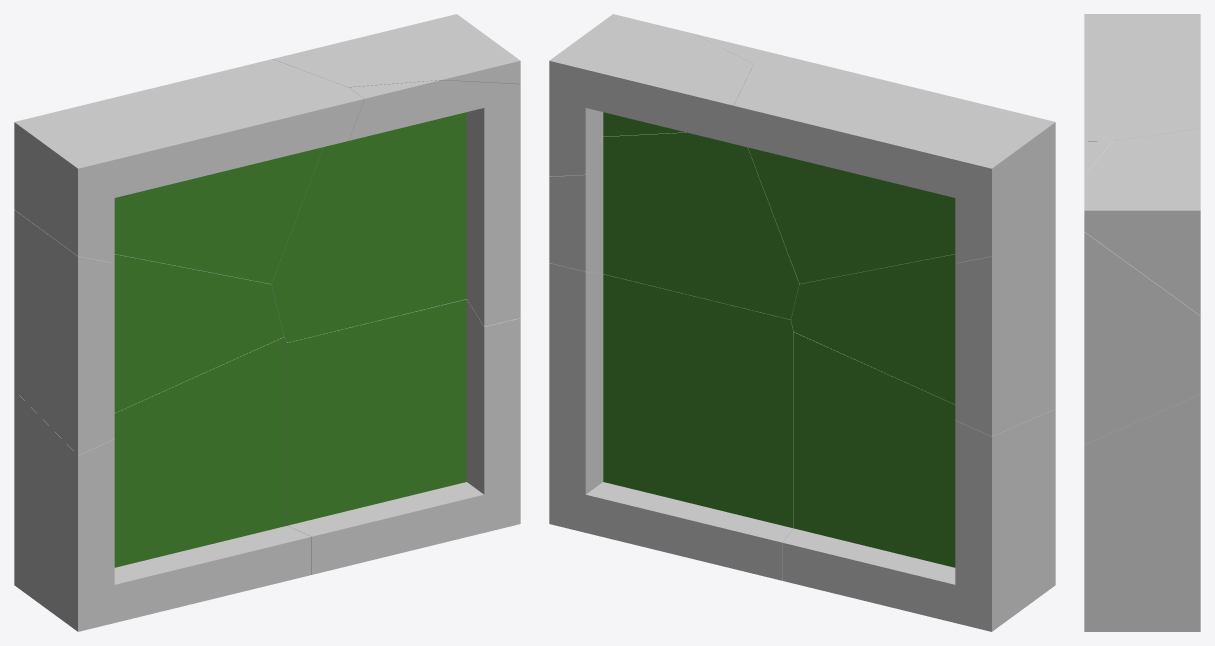
File: Wall concretel 2 4x4x1 Fractured.fbx
3 views of the same model, side by side, from view 1: azimuth 30°, elevation 25°; view 2: azimuth 150°, elevation 25°; view 3: azimuth 270°, elevation 25° (orthographic). The views are drawn at different scales.
Parts seen in each view (by area): view 1: wall concretel_02 4x4x1_cell.001, wall concretel_02 4x4x1_cell.004, wall concretel_02 4x4x1_cell.002, wall concretel_02 4x4x1_cell.003, wall concretel_02 4x4x1_cell, wall concretel_02 4x4x1_cell.005; view 2: wall concretel_02 4x4x1_cell.004, wall concretel_02 4x4x1_cell.001, wall concretel_02 4x4x1_cell.002, wall concretel_02 4x4x1_cell, wall concretel_02 4x4x1_cell.003, wall concretel_02 4x4x1_cell.005; view 3: wall concretel_02 4x4x1_cell.004, wall concretel_02 4x4x1_cell.003, wall concretel_02 4x4x1_cell.005, wall concretel_02 4x4x1_cell.002.
Boxes of the visible parts, bbox=[...] form: wall concretel_02 4x4x1_cell.001: bbox=[14, 337, 311, 631]; wall concretel_02 4x4x1_cell.004: bbox=[287, 299, 520, 574]; wall concretel_02 4x4x1_cell.002: bbox=[14, 59, 364, 284]; wall concretel_02 4x4x1_cell.003: bbox=[271, 80, 520, 342]; wall concretel_02 4x4x1_cell: bbox=[14, 210, 283, 455]; wall concretel_02 4x4x1_cell.005: bbox=[273, 14, 520, 87]; wall concretel_02 4x4x1_cell.004: bbox=[549, 263, 793, 580]; wall concretel_02 4x4x1_cell.001: bbox=[782, 332, 1055, 631]; wall concretel_02 4x4x1_cell.002: bbox=[733, 52, 1055, 283]; wall concretel_02 4x4x1_cell: bbox=[791, 210, 1055, 436]; wall concretel_02 4x4x1_cell.003: bbox=[549, 33, 799, 319]; wall concretel_02 4x4x1_cell.005: bbox=[549, 14, 753, 176]; wall concretel_02 4x4x1_cell.004: bbox=[1084, 394, 1200, 631]; wall concretel_02 4x4x1_cell.003: bbox=[1084, 141, 1200, 444]; wall concretel_02 4x4x1_cell.005: bbox=[1084, 128, 1200, 315]; wall concretel_02 4x4x1_cell.002: bbox=[1084, 14, 1200, 141].
Bounding box in the file's own units: 4 × 4 × 1.
